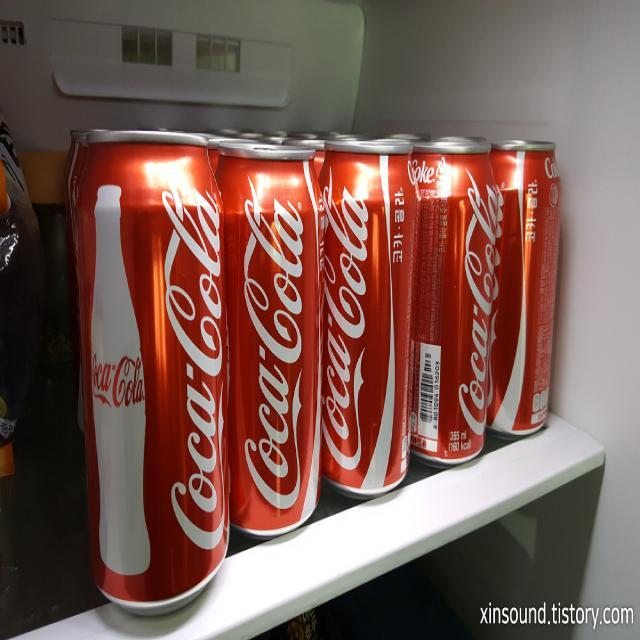coca-cola: (71, 124, 232, 622), (222, 124, 326, 536), (321, 137, 415, 499), (414, 133, 498, 467), (490, 137, 562, 441)
